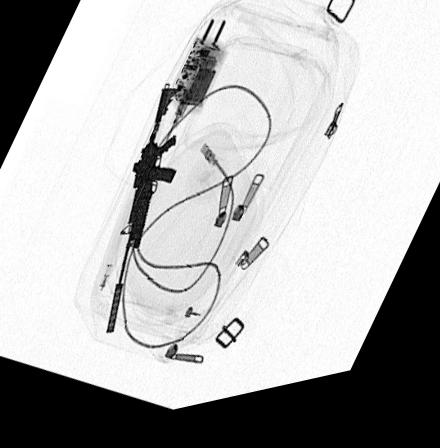Gun: (105, 92, 180, 339)
